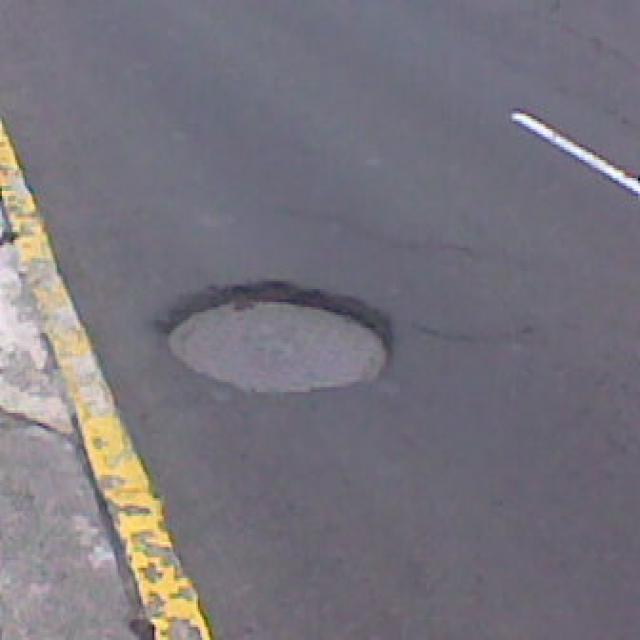Buraco: (157, 277, 399, 397)
